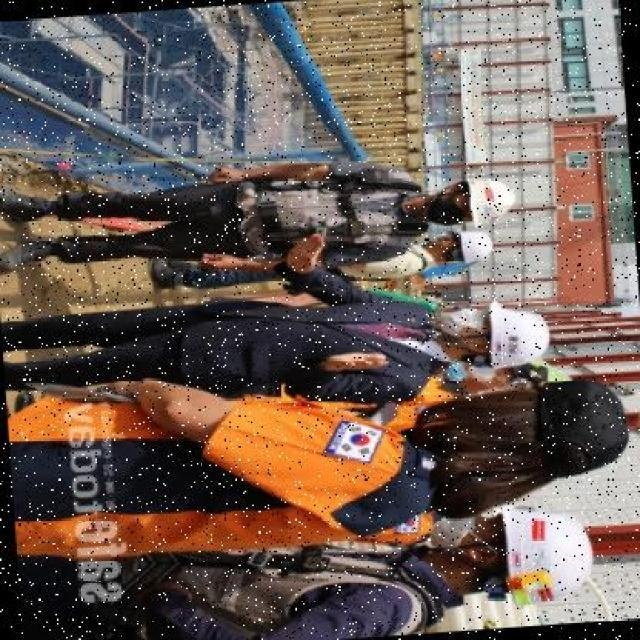Arnes_seguridad: (188, 157, 420, 268)
